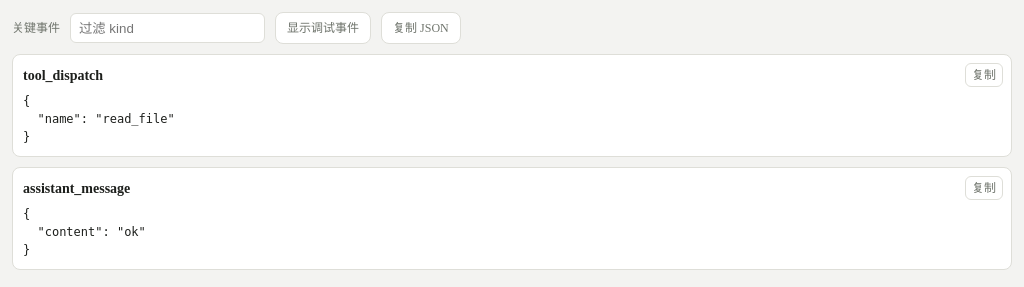
it: EventTimeline › filters events by kind
The image size is (1024, 287).
Type "tool" into the field named "Filter event kind".
click(168, 28); type("tool")  # box left=70, top=13, right=265, bottom=43
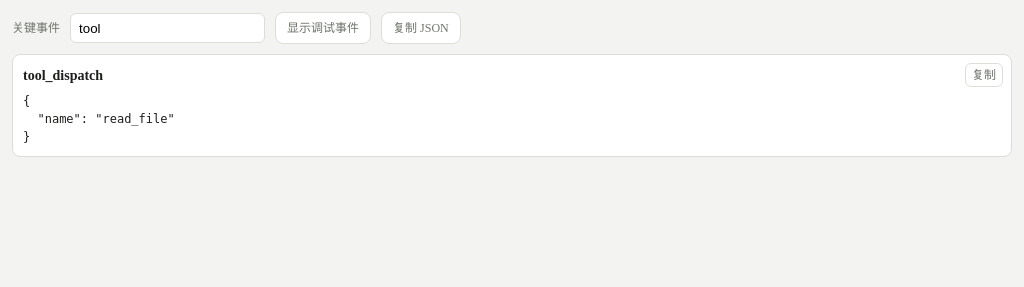
Check: the text "tool_dispatch" is shown, box left=23, top=68, right=103, bottom=83
Check: the text "assistant_message" is gone
